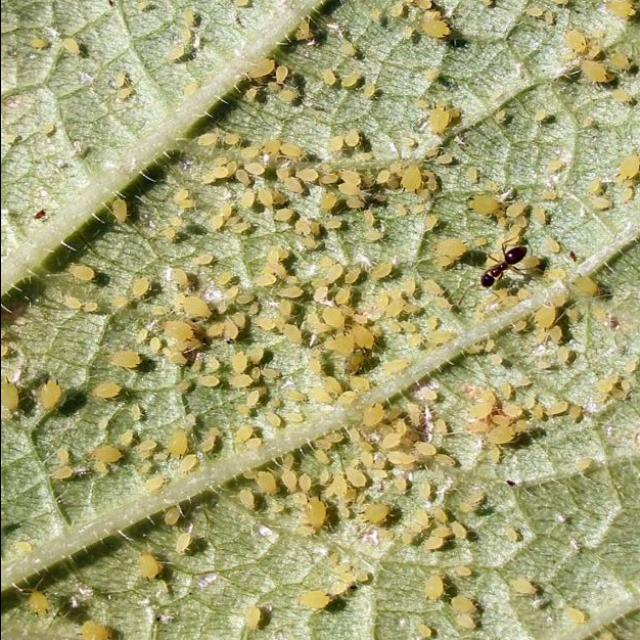Aphids: (222, 154, 602, 548), (0, 116, 218, 499), (286, 534, 383, 627), (546, 19, 632, 98), (154, 498, 217, 558), (117, 537, 168, 586), (230, 597, 274, 639)
